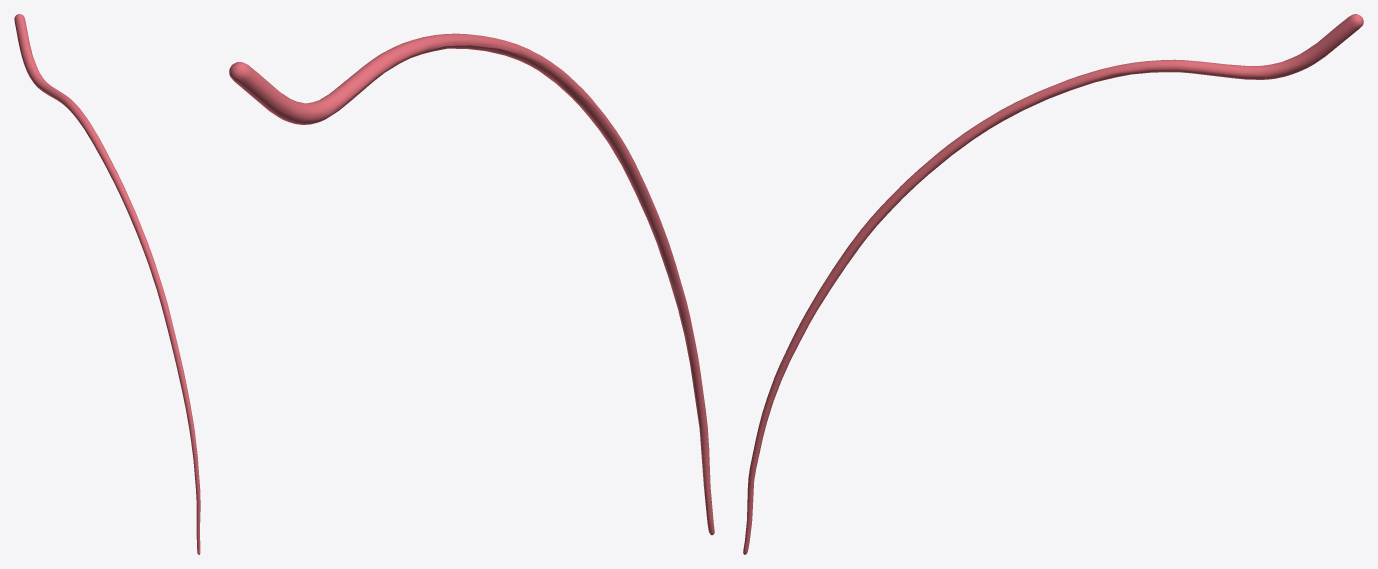
File: fma20819_fj3497.glb
3 views of the same model, side by side, from view 1: azimuth 30°, elevation 25°; view 2: azimuth 150°, elevation 25°; view 3: azimuth 270°, elevation 25° (orthographic). The views are drawn at different scales.
Parts seen in each view (by area): view 1: FMA20819_FJ3497; view 2: FMA20819_FJ3497; view 3: FMA20819_FJ3497.
Part boxes in pixels (box(x1,y1,x2,y2)): FMA20819_FJ3497: box(14, 14, 200, 554); FMA20819_FJ3497: box(229, 33, 714, 535); FMA20819_FJ3497: box(743, 14, 1363, 554).
Size of the model in its own units: 0.00516 by 0.0549 by 0.0551.
